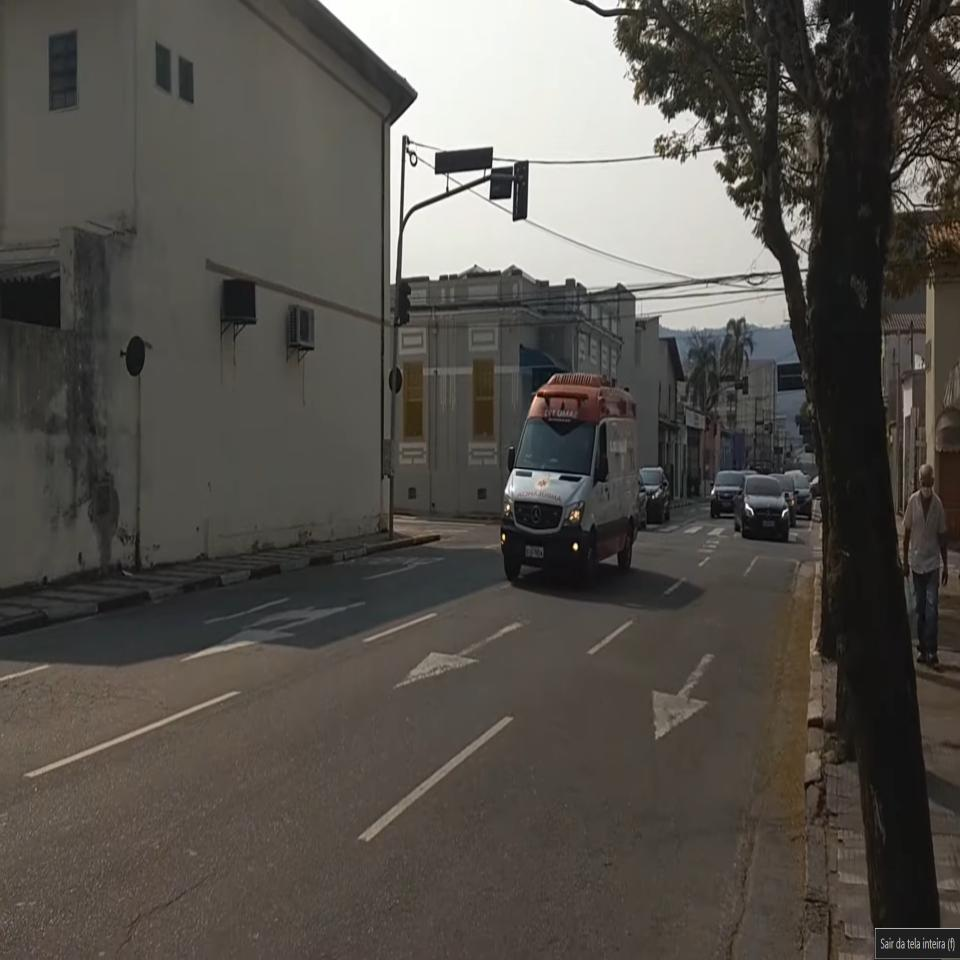bombeiro: (501, 368, 642, 588)
